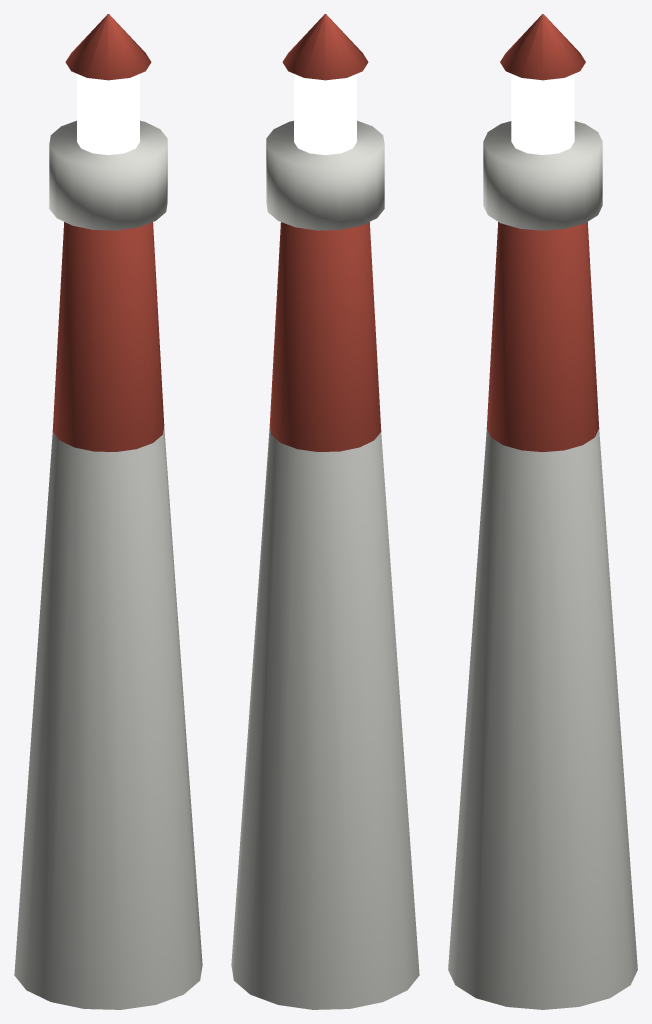
The model's file is beacon.glb.
3 renders of one model, left to right at view 1: azimuth 30°, elevation 25°; view 2: azimuth 150°, elevation 25°; view 3: azimuth 270°, elevation 25°, orthographic.
Visible parts, largest first — view 1: Beacon; view 2: Beacon; view 3: Beacon.
Boxes of the visible parts, bbox=[...] form: Beacon: bbox=[14, 14, 202, 1009]; Beacon: bbox=[231, 14, 419, 1009]; Beacon: bbox=[448, 14, 637, 1009].
Bounding box in the file's own units: 10.8 × 60 × 10.8.
